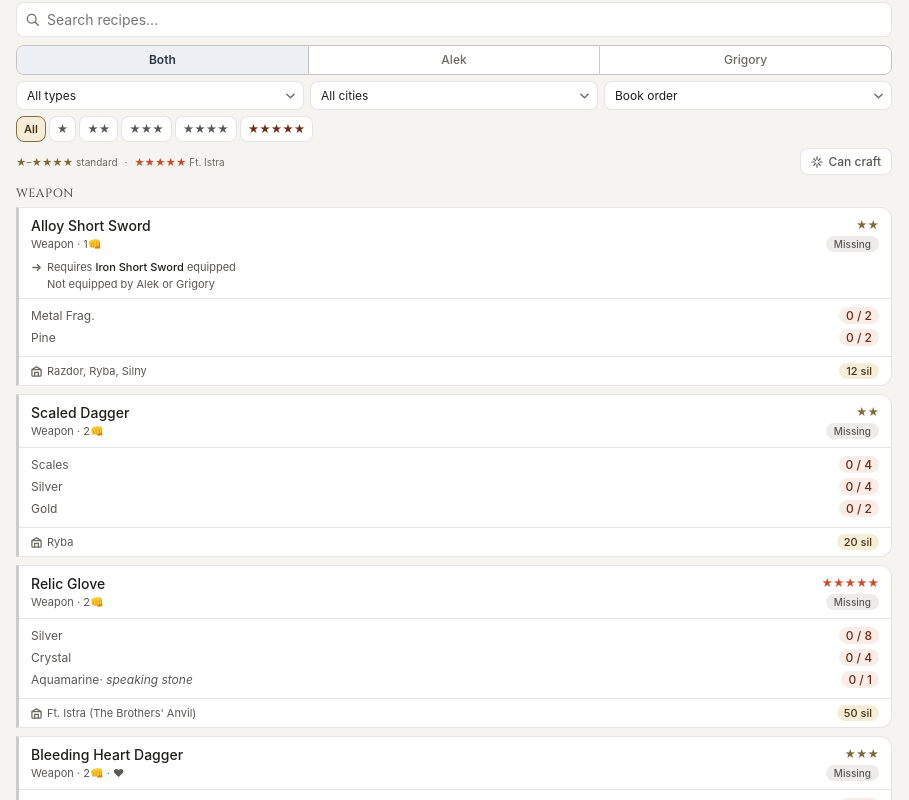
Test: CraftTab — upgrade comparison › compares armor with the equipped armor
Click the button "Grigory": click(746, 60) [600,46,891,74]
(page scrolled)
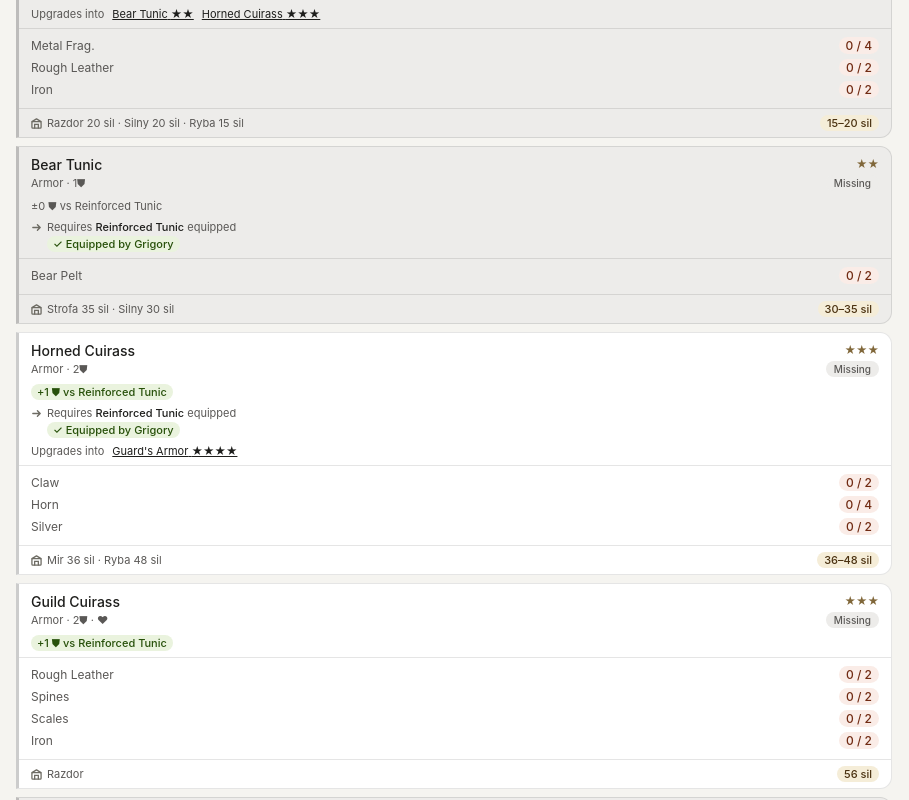
expect the 1st element with class "craft-upgrade" reads "+1 ⛊ vs Reinforced Tunic": met, box [37,385,167,399]
